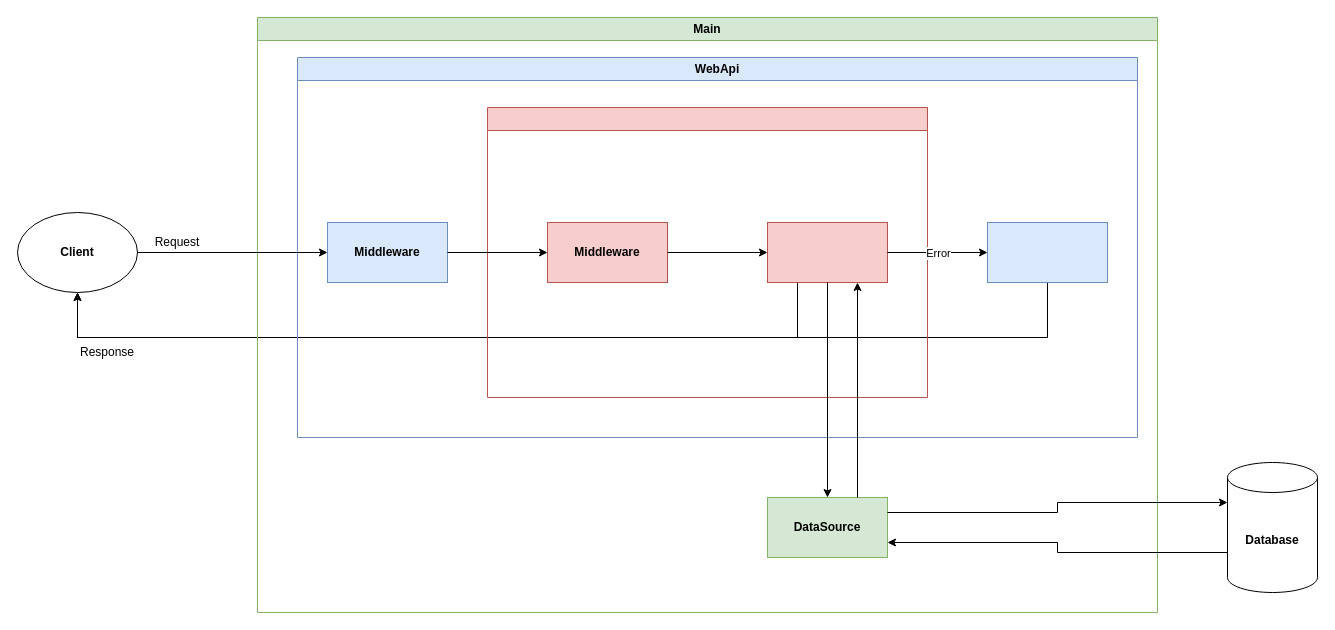
Image size: 1335x630. Some labels were removed from this diagram. The shapes that lost their labels are listed below. From the top down, each one's box as (x1, y1, x2, y2) in pixels, then its label:
(486, 106, 928, 398): ApiController
(766, 222, 888, 282): Handler
(986, 222, 1108, 282): ErrorHandler
